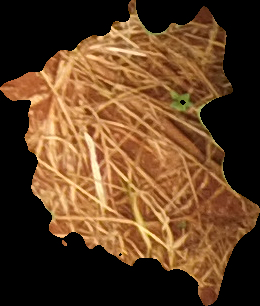soil: (1, 1, 259, 305)
